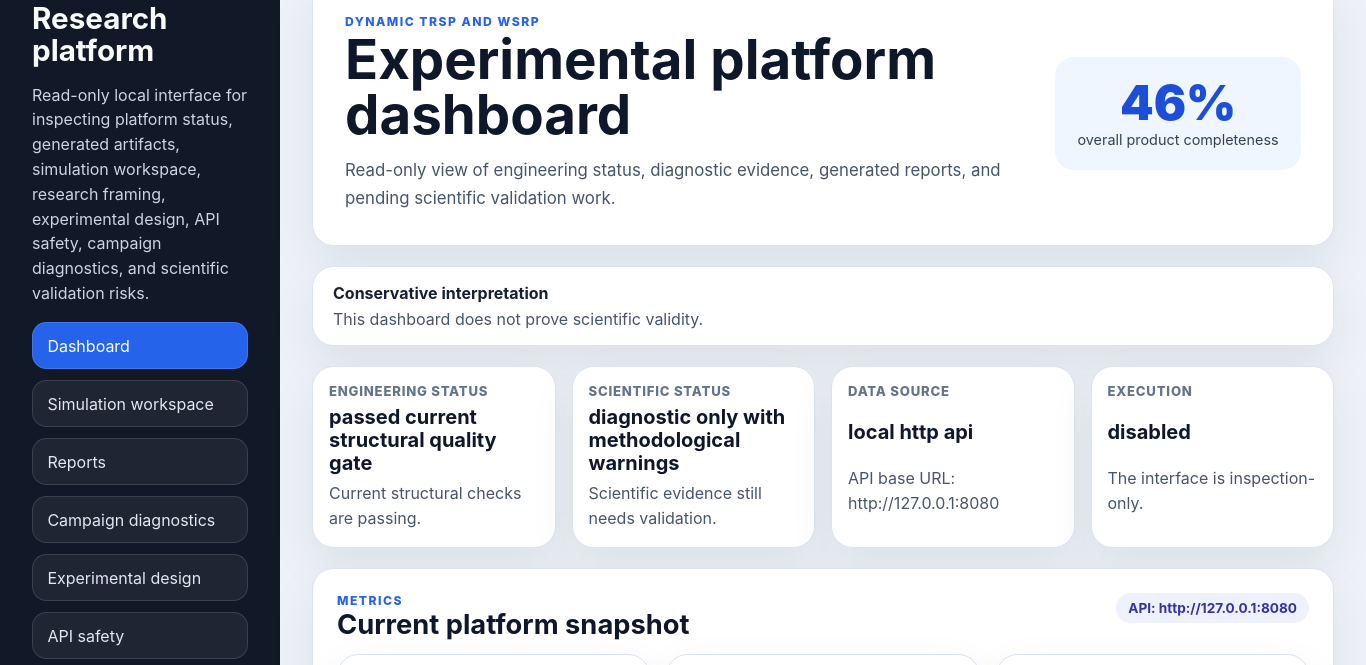
Test: App dashboard › navigates to the API safety page
Expected: the heading "Experimental platform dashboard" is shown, [345, 32, 1023, 142]
Step 1. Click the button "API safety" → (140, 636), box [32, 612, 248, 659]
(page scrolled)
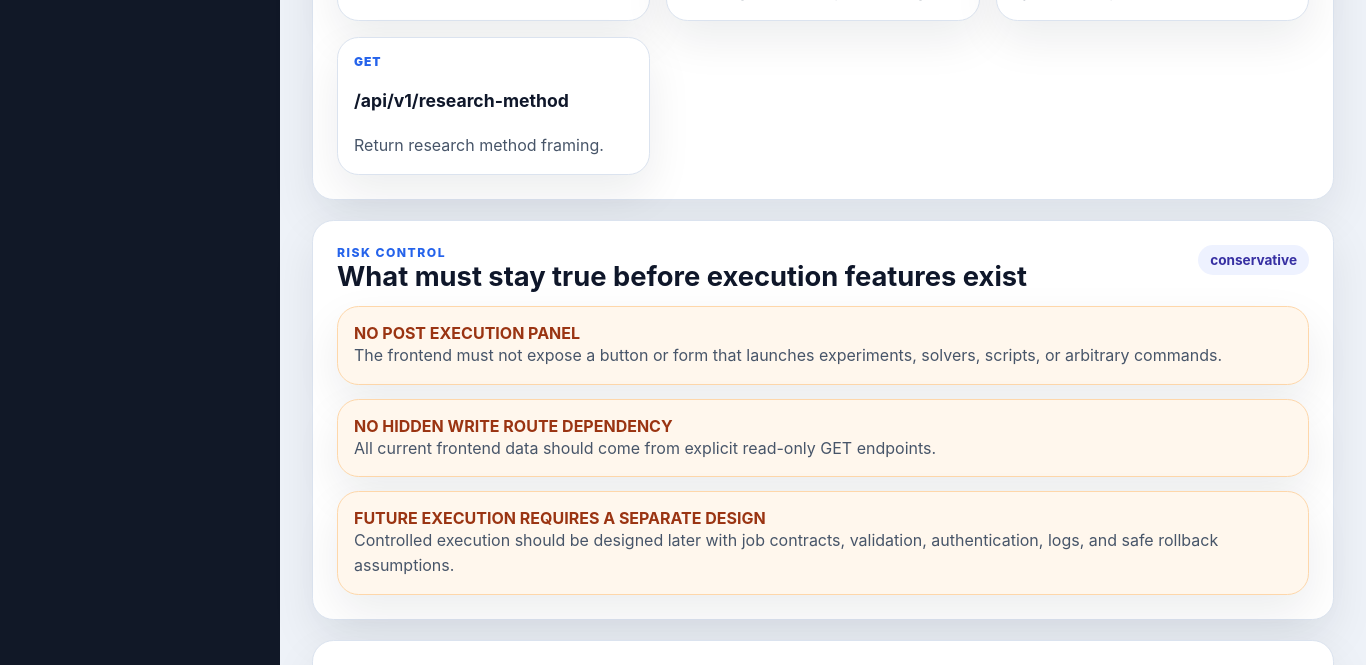
Now the heading "/api/v1/research-method" is shown, box [354, 90, 569, 111]
Now the text "No POST execution panel" is shown, box [354, 323, 580, 343]
